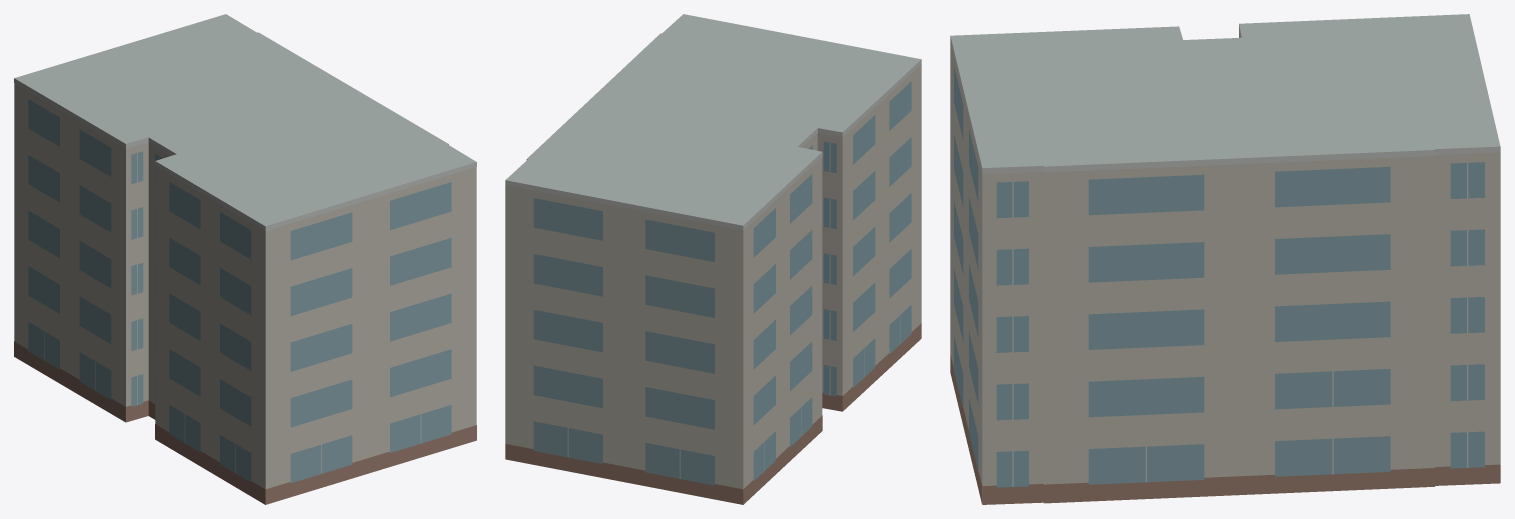
File: survey-upis-32654160.glb
3 views of the same model, side by side, from view 1: azimuth 30°, elevation 25°; view 2: azimuth 150°, elevation 25°; view 3: azimuth 270°, elevation 25° (orthographic). The views are drawn at different scales.
Visible parts, largest first — view 1: survey-upis-32654160.tmp; view 2: survey-upis-32654160.tmp; view 3: survey-upis-32654160.tmp.
Part boxes in pixels (left/top/right/bottom): survey-upis-32654160.tmp: left=14, top=14, right=476, bottom=504; survey-upis-32654160.tmp: left=505, top=14, right=921, bottom=504; survey-upis-32654160.tmp: left=950, top=14, right=1500, bottom=504.
Bounding box in the file's own units: 13.61 × 13.86 × 20.53.
